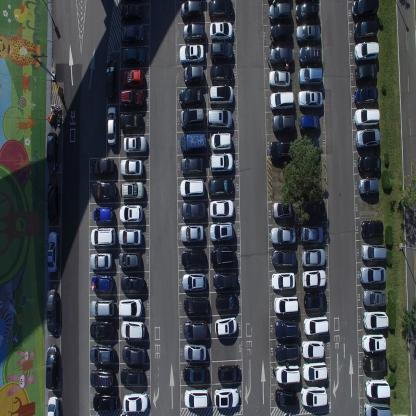car: (180, 131, 207, 156), (46, 287, 59, 335), (122, 390, 148, 414), (214, 386, 240, 409), (300, 386, 327, 408), (274, 317, 300, 339), (45, 345, 58, 389), (93, 390, 119, 412), (183, 387, 209, 409), (179, 107, 205, 129), (208, 84, 234, 106), (354, 40, 380, 62), (352, 0, 379, 21), (268, 140, 296, 160), (209, 219, 233, 242), (210, 244, 235, 266), (90, 368, 115, 390), (120, 180, 145, 202), (209, 152, 234, 174), (120, 22, 145, 44), (269, 90, 294, 112), (297, 44, 322, 66), (355, 128, 380, 150), (183, 294, 209, 315), (120, 319, 146, 340), (364, 377, 390, 398), (297, 89, 323, 110), (354, 106, 380, 127), (302, 361, 328, 382), (105, 56, 117, 101), (360, 265, 387, 285), (123, 344, 147, 366), (183, 318, 207, 340), (180, 155, 204, 177), (214, 315, 238, 337), (120, 88, 144, 110), (268, 45, 292, 67), (296, 22, 320, 44), (269, 22, 293, 44), (268, 1, 292, 23), (212, 269, 237, 290), (91, 226, 116, 247), (301, 198, 326, 219), (181, 248, 206, 269), (179, 42, 204, 63), (298, 66, 323, 87), (274, 342, 300, 362), (269, 226, 295, 246), (90, 320, 116, 340), (91, 180, 117, 200), (46, 230, 58, 273), (302, 316, 329, 335), (206, 109, 233, 128), (360, 242, 387, 261), (119, 1, 142, 23), (272, 114, 295, 136), (182, 20, 205, 42), (271, 271, 295, 292), (119, 203, 143, 224), (179, 86, 203, 107), (273, 294, 298, 314), (183, 364, 208, 384), (208, 177, 233, 197), (181, 201, 206, 221), (90, 346, 115, 366), (120, 274, 145, 294), (180, 177, 205, 197), (363, 311, 388, 331), (302, 268, 327, 288), (123, 134, 148, 154), (119, 111, 144, 131), (208, 0, 233, 20), (353, 20, 378, 40), (354, 86, 379, 106), (47, 179, 58, 224), (275, 365, 301, 384), (210, 41, 233, 62), (271, 247, 295, 267), (361, 334, 385, 354), (91, 298, 115, 318), (183, 342, 207, 362), (118, 250, 142, 270), (118, 227, 142, 247), (122, 45, 146, 65), (209, 63, 233, 83), (209, 20, 233, 40), (295, 2, 319, 22), (360, 218, 384, 238), (209, 199, 234, 218), (362, 354, 388, 372), (93, 204, 114, 226), (298, 113, 320, 134), (358, 175, 380, 196), (301, 339, 324, 359), (303, 291, 326, 311), (90, 252, 113, 272), (91, 273, 114, 293), (301, 224, 324, 244), (92, 157, 115, 177), (355, 63, 378, 83), (180, 224, 204, 243), (120, 368, 144, 387), (362, 288, 386, 307), (46, 131, 57, 172), (118, 298, 143, 316), (301, 248, 326, 266), (182, 272, 207, 290), (216, 291, 238, 311), (122, 68, 144, 88), (183, 64, 203, 86), (275, 387, 297, 407), (218, 363, 241, 382), (364, 400, 391, 416), (119, 158, 143, 176), (357, 154, 381, 172), (107, 104, 117, 146), (272, 200, 294, 219), (210, 131, 232, 150), (180, 0, 202, 19), (268, 68, 290, 87), (300, 134, 320, 154), (47, 394, 60, 416)
